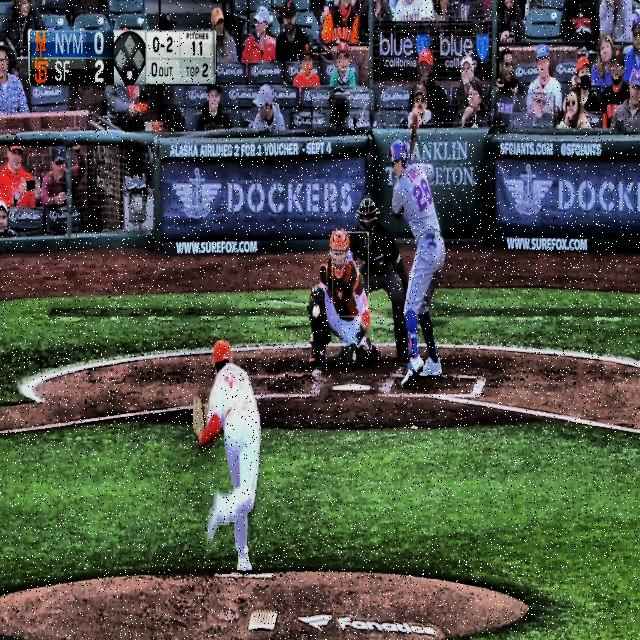baseball: (312, 303, 321, 321)
